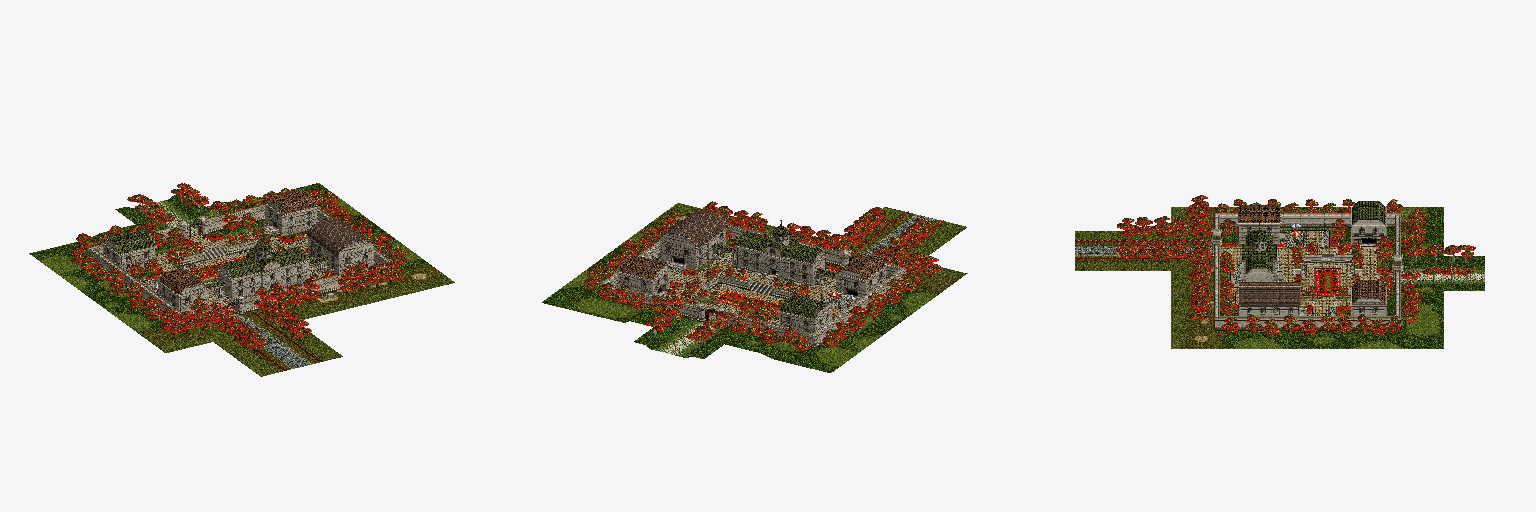
3 views of the same model, side by side, from view 1: azimuth 30°, elevation 25°; view 2: azimuth 150°, elevation 25°; view 3: azimuth 270°, elevation 25° (orthographic).
Visible parts, largest first — view 1: Object.010; view 2: Object.010; view 3: Object.010.
Part boxes in pixels (x1,y1,x2,y2): Object.010: (29, 183, 454, 376); Object.010: (542, 201, 967, 372); Object.010: (1075, 195, 1484, 348).
Size of the model in its own units: 98 by 20.31 by 120.
Materials: 34 (34 with a texture image).